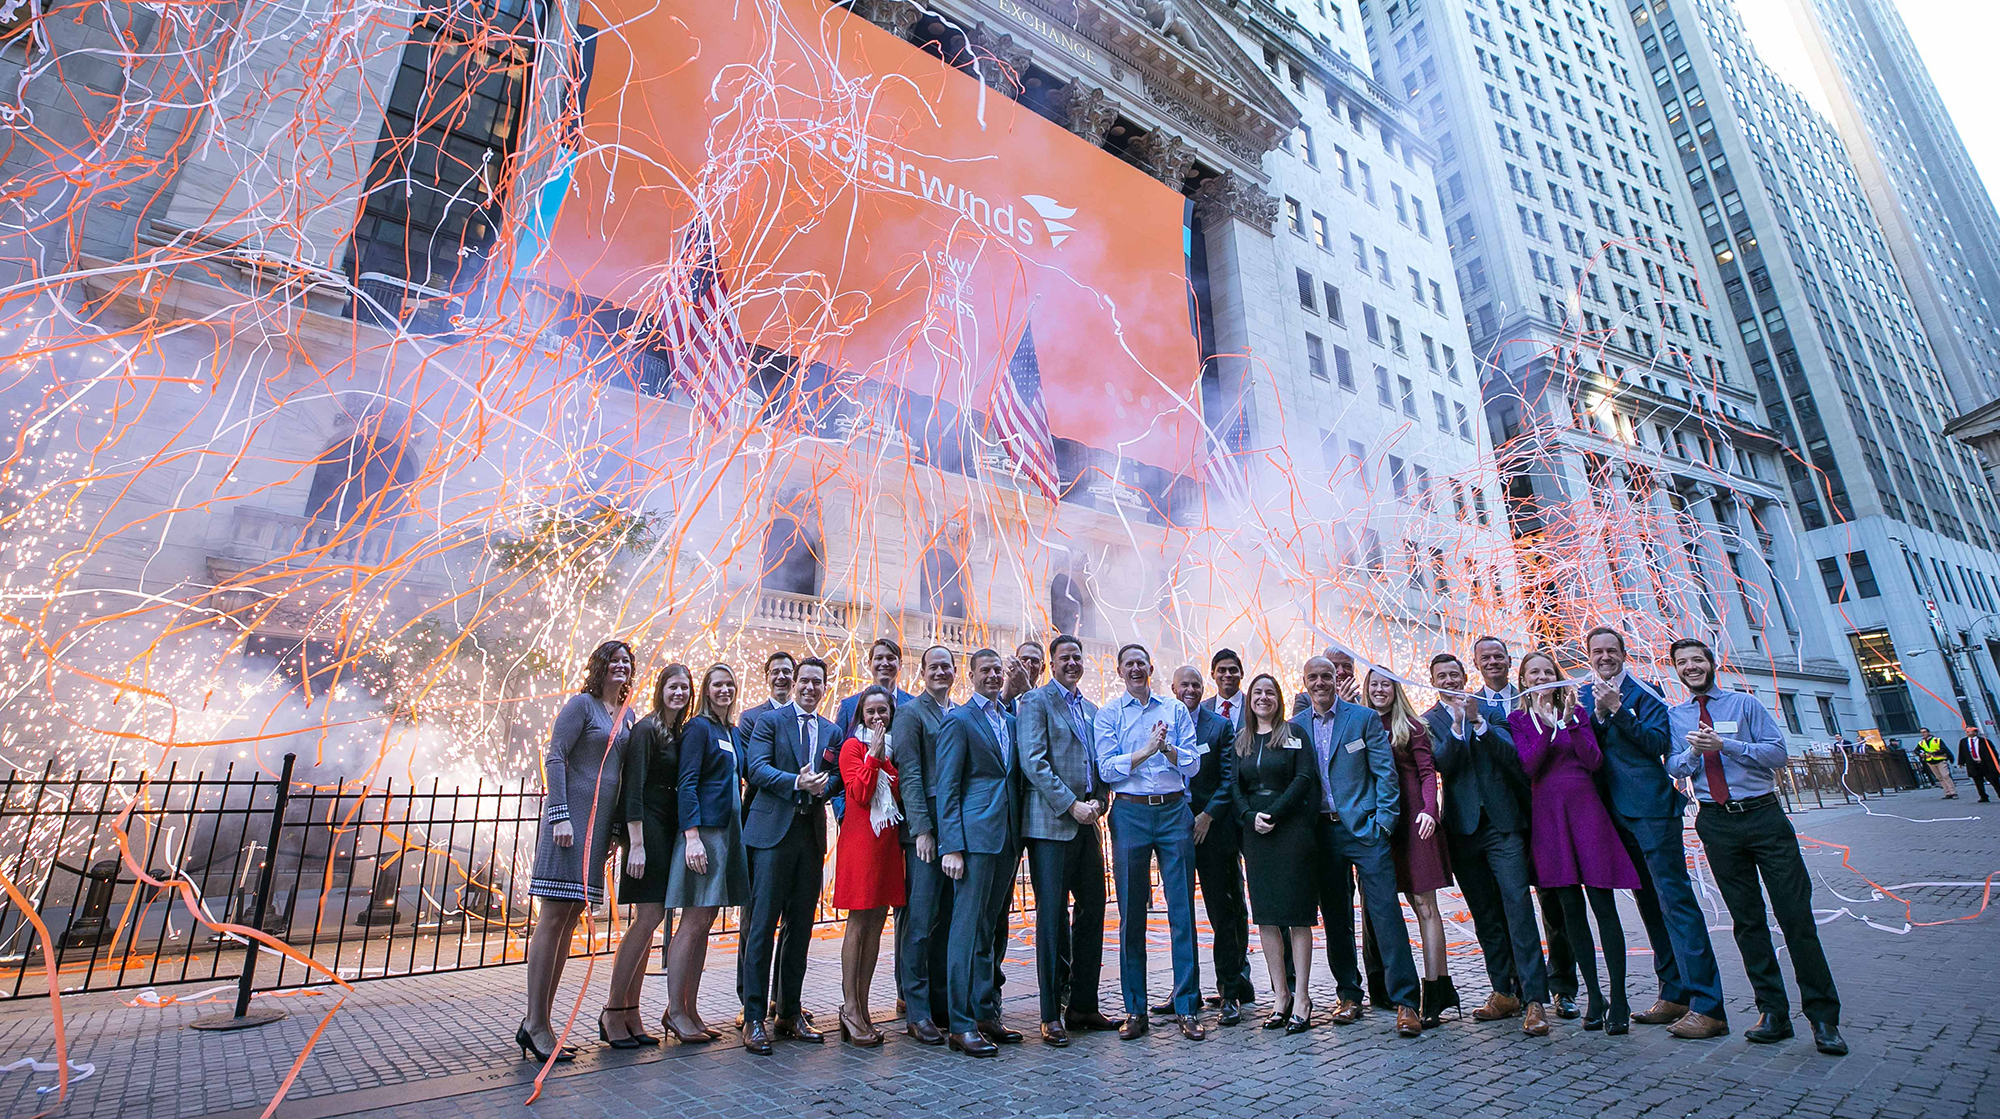face: (1580, 624, 1630, 682), (583, 637, 636, 691), (1360, 655, 1405, 715), (1427, 648, 1472, 705), (1521, 644, 1560, 702), (1295, 653, 1338, 706), (791, 655, 829, 712), (1112, 639, 1152, 693), (851, 686, 895, 734), (1042, 635, 1087, 683), (653, 659, 693, 710), (919, 642, 956, 698), (1474, 632, 1512, 683), (702, 659, 738, 713), (1673, 640, 1713, 687), (868, 637, 904, 686), (968, 648, 1006, 694), (1247, 672, 1284, 717), (763, 650, 792, 702), (1167, 664, 1206, 705), (1212, 644, 1241, 694), (1013, 637, 1042, 672)
